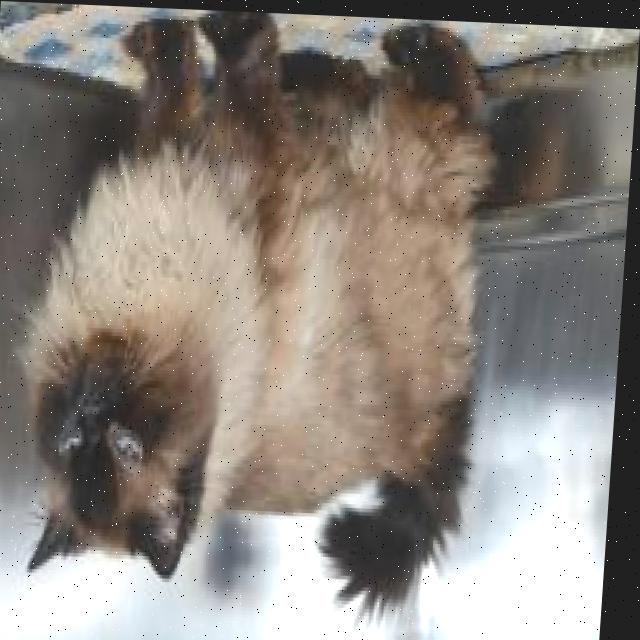Birman: (3, 1, 505, 633)
